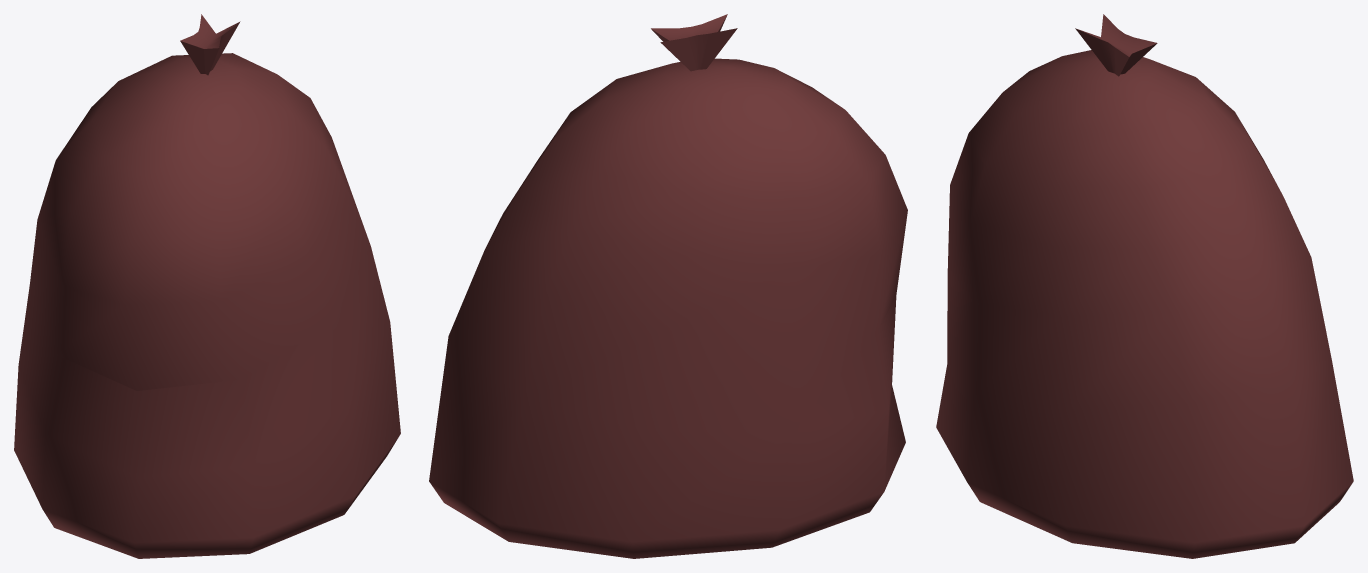
Rendered from calleBolsa2.fbx.
3 renders of one model, left to right at view 1: azimuth 30°, elevation 25°; view 2: azimuth 150°, elevation 25°; view 3: azimuth 270°, elevation 25°, orthographic. The views are drawn at different scales.
Visible parts, largest first — view 1: Bolsa2; view 2: Bolsa2; view 3: Bolsa2.
Part boxes in pixels (<box>): Bolsa2: <box>14,14,400,558</box>; Bolsa2: <box>429,14,907,558</box>; Bolsa2: <box>936,14,1353,558</box>.
Size of the model in its own units: 0.00598 by 0.00707 by 0.00583.
